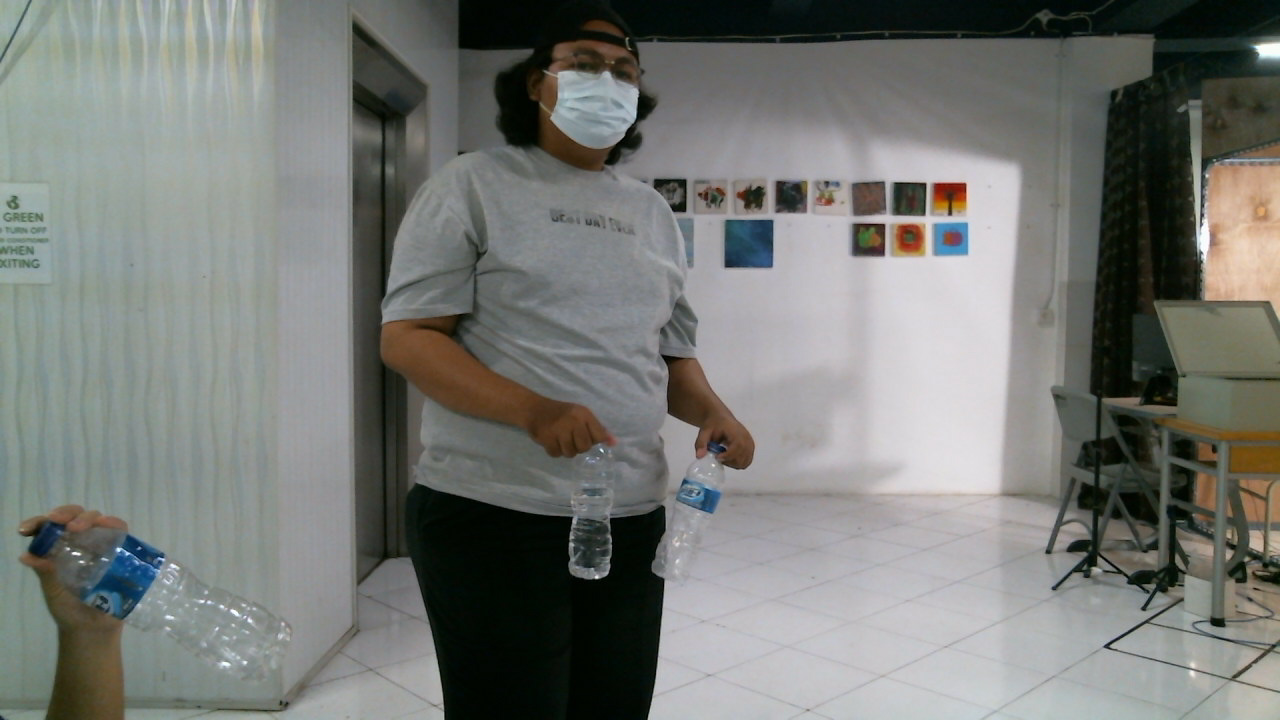Bottle: (30, 519, 295, 684), (651, 442, 727, 586)
